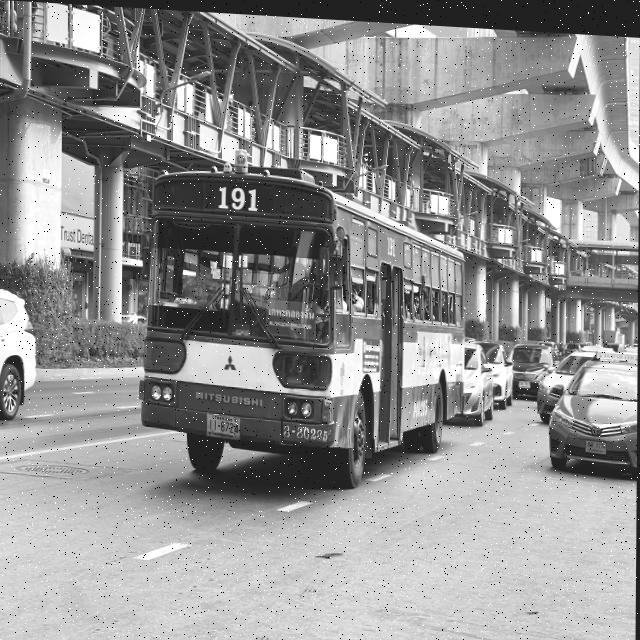BMTA-bus: (135, 138, 471, 494)
Bus Line Number: (213, 183, 263, 212)
Bus Side Number: (281, 420, 332, 441)
Destination Sign: (267, 296, 319, 338)
